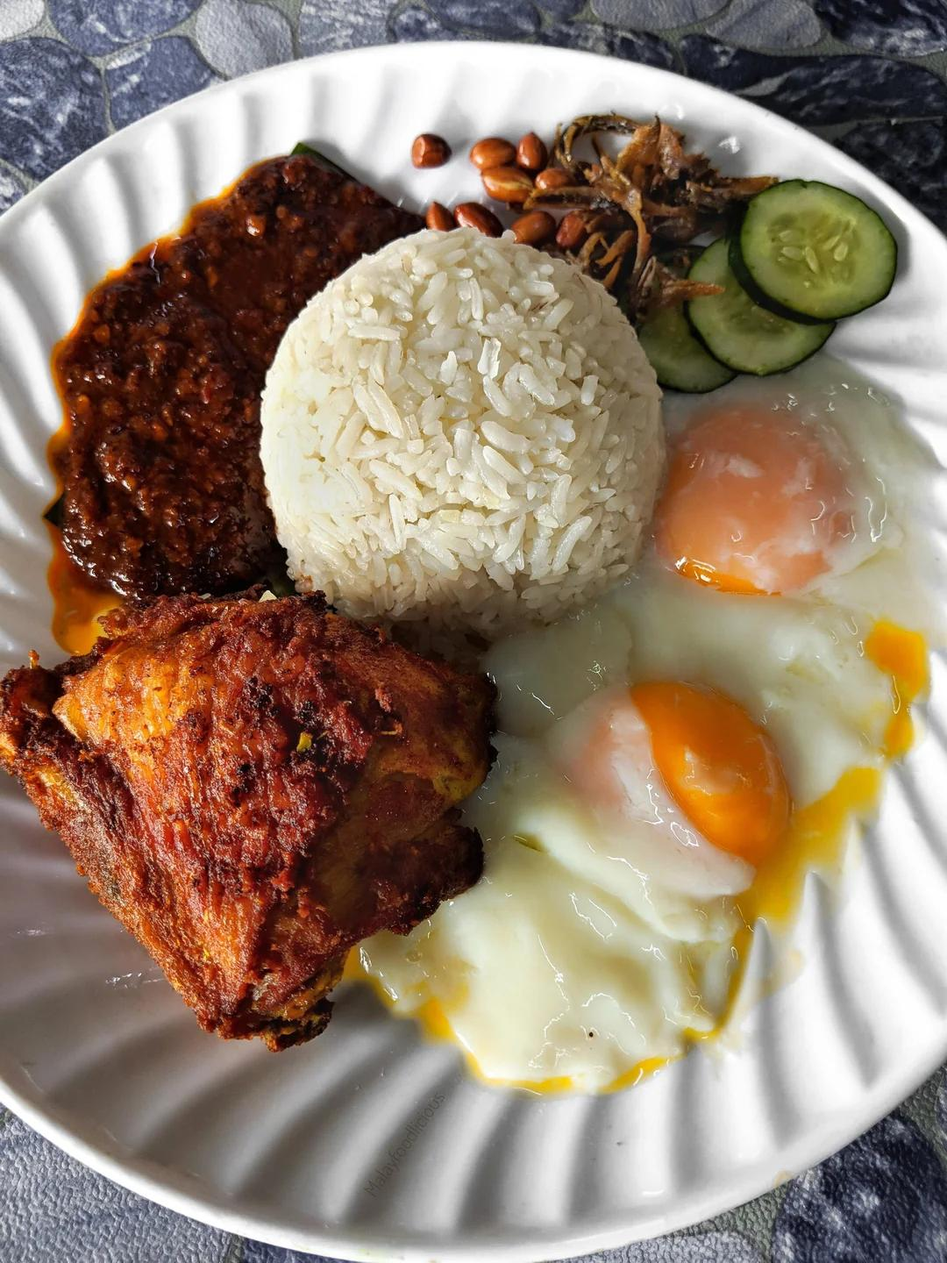Anchovies: (550, 116, 751, 289)
Cucumber: (644, 183, 901, 390)
Fried-Chicken: (0, 597, 499, 1038)
Fried-Egg: (345, 359, 933, 1099)
Peanuts: (410, 136, 577, 251)
Rice: (267, 240, 666, 640)
Sambal: (53, 145, 431, 607)
